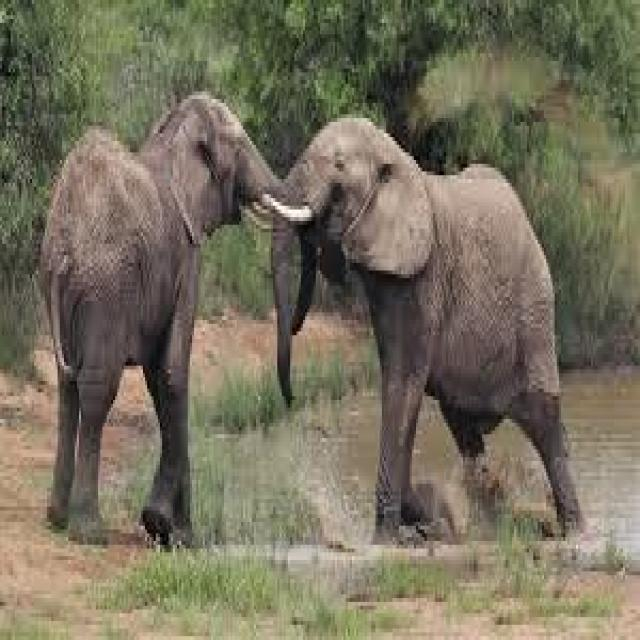Elephant: (267, 111, 580, 534), (34, 88, 284, 548)
